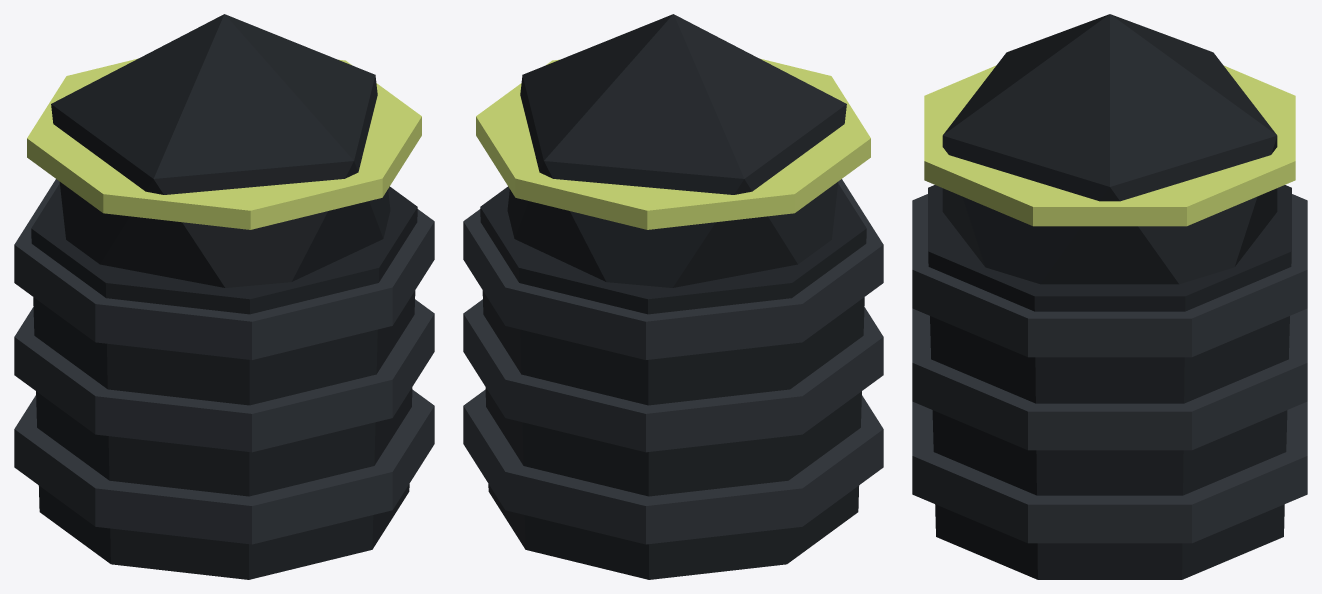
File: inf_warden_upper_arm_l.fbx
The picture shows the model from 3 angles, left to right: view 1: azimuth 30°, elevation 25°; view 2: azimuth 150°, elevation 25°; view 3: azimuth 270°, elevation 25°; orthographic projection.
Visible parts, largest first — view 1: inf_warden_upper_arm_l; view 2: inf_warden_upper_arm_l; view 3: inf_warden_upper_arm_l.
Boxes of the visible parts, x1,y1,x2,y2 form: inf_warden_upper_arm_l: (14, 14, 434, 579); inf_warden_upper_arm_l: (463, 14, 883, 579); inf_warden_upper_arm_l: (912, 14, 1307, 579).
Size of the model in its own units: 92.39 by 127 by 92.39.
